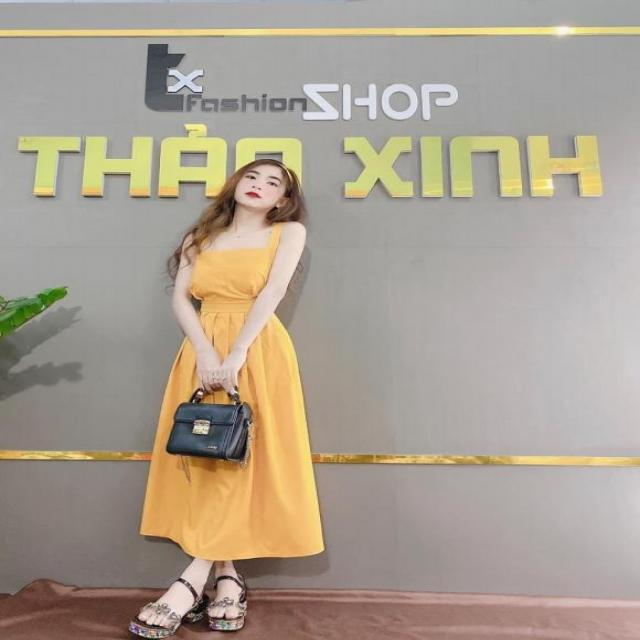clothes: (146, 223, 330, 563)
